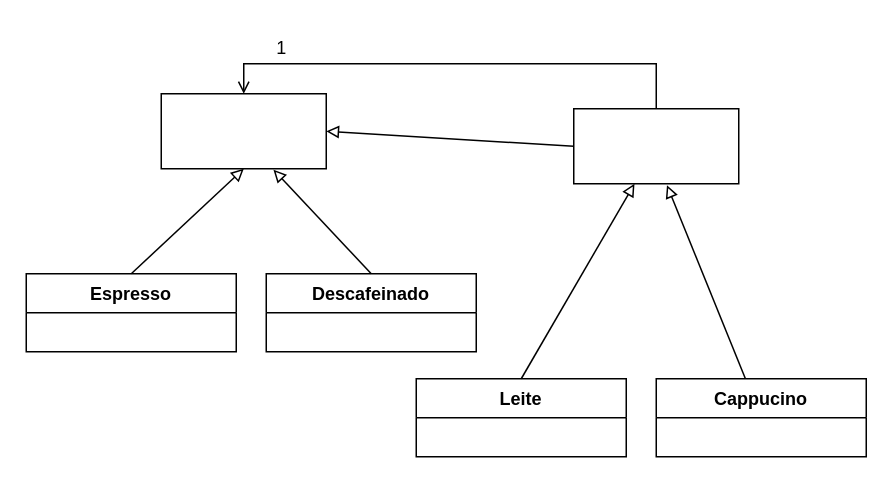
Some shapes in this 893 by 483 pixel diagram are drawn without their labels. Here are the shapes that lost their labels. From the top down, the box of each, then its label:
(160, 92, 326, 169): «interface» Cafe
(572, 107, 739, 184): «abstract» CafeDecorator
